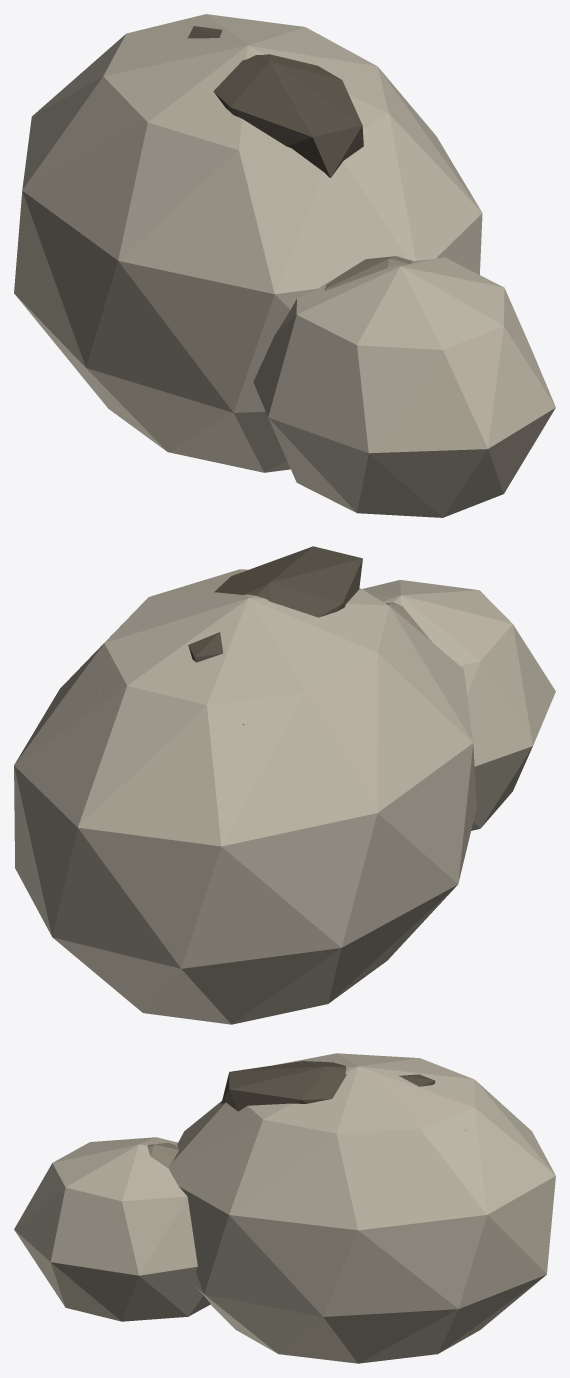
File: spider_2_body.glb
3 renders of one model, top to bottom at view 1: azimuth 30°, elevation 25°; view 2: azimuth 150°, elevation 25°; view 3: azimuth 270°, elevation 25°, orthographic. The views are drawn at different scales.
Parts seen in each view (by area): view 1: spider_2_body; view 2: spider_2_body; view 3: spider_2_body.
Boxes of the visible parts, left/top/right/bottom form: spider_2_body: left=14, top=14, right=555, bottom=517; spider_2_body: left=14, top=546, right=555, bottom=1024; spider_2_body: left=14, top=1053, right=555, bottom=1363.
Bounding box in the file's own units: 0.3964 × 0.4 × 0.6929.
